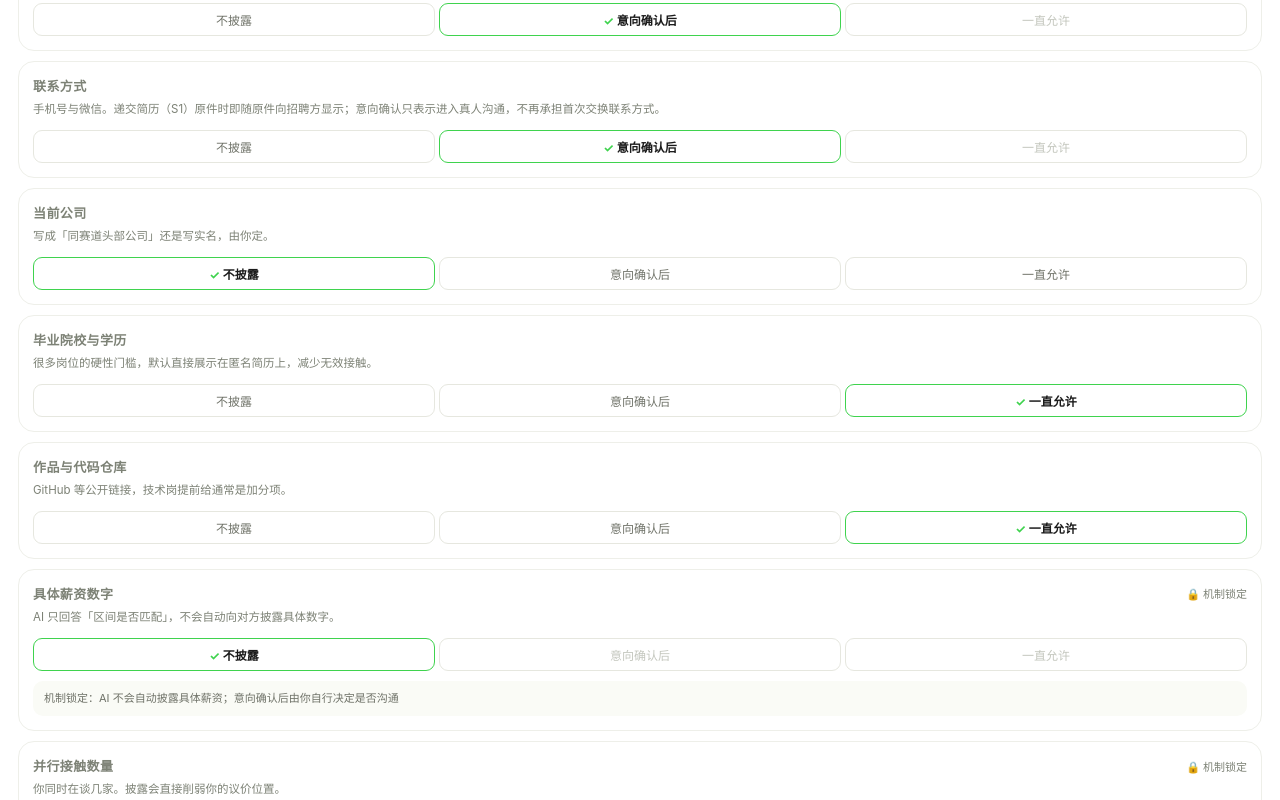
Test case: 披露偏好 · Backend 写线 › Backend 写档位失败：弹现有轻提示错误文案，不派发本地 设披露档 假成功
(page scrolled)
Click the button with aria-label "毕业院校与学历：不披露": (234, 400) [33,384,435,417]
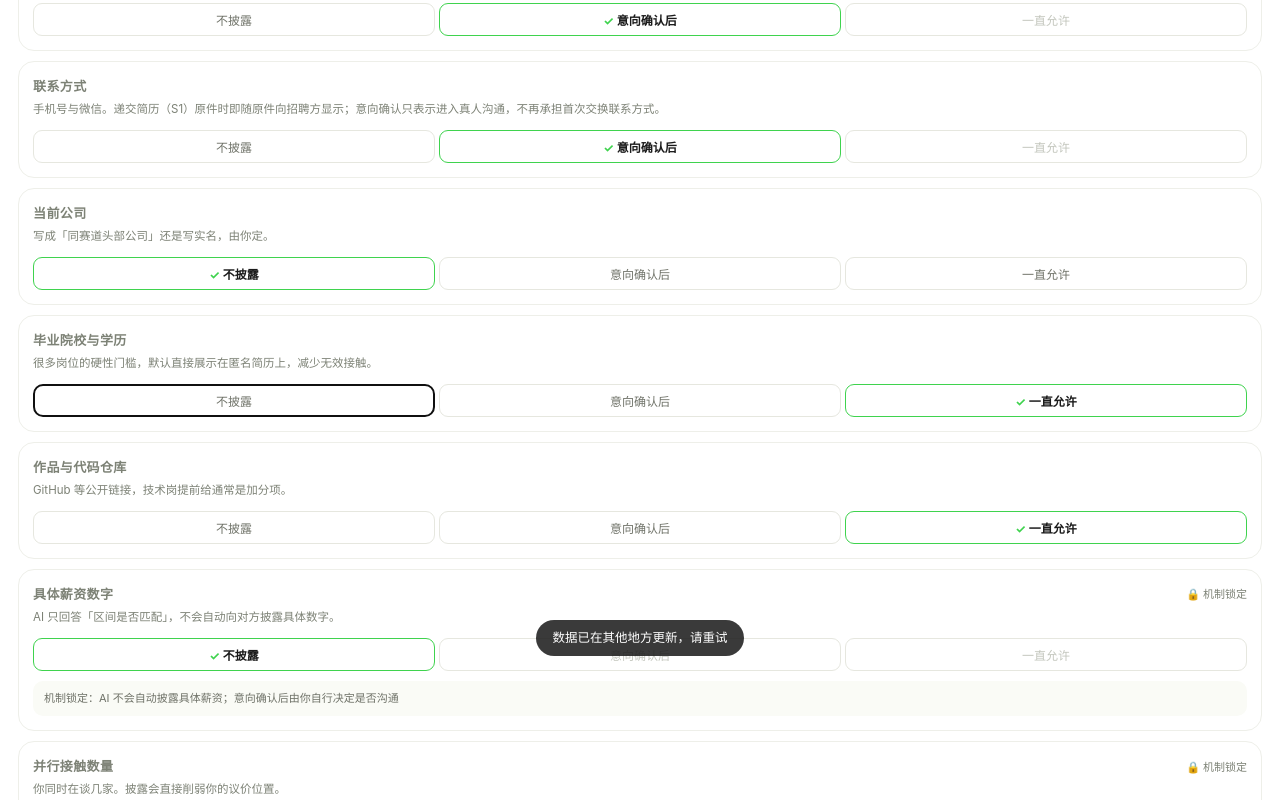
Now the text "数据已在其他地方更新，请重试" is shown, box [536,620,744,656]
